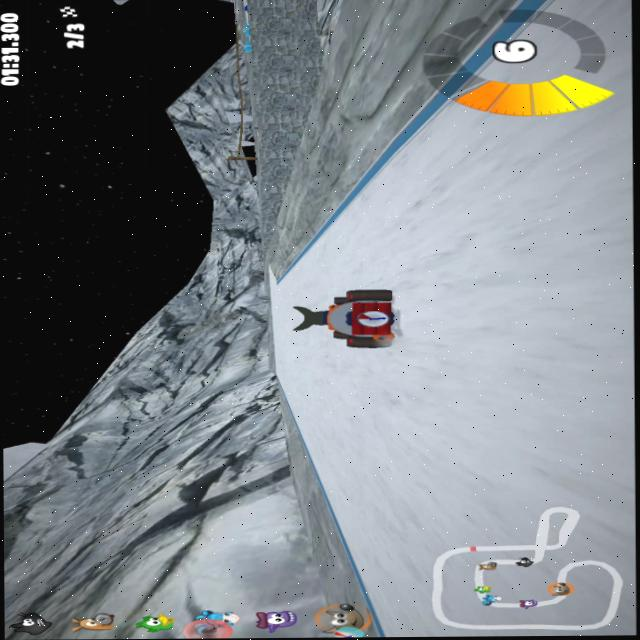player_kart: (292, 287, 402, 354)
track: (383, 353, 635, 637), (402, 154, 633, 352), (452, 78, 637, 157), (331, 354, 388, 523), (513, 0, 633, 78), (294, 243, 406, 285), (325, 203, 407, 244), (289, 355, 337, 415), (268, 280, 292, 369), (346, 521, 383, 559), (367, 165, 404, 201), (303, 412, 335, 449)
